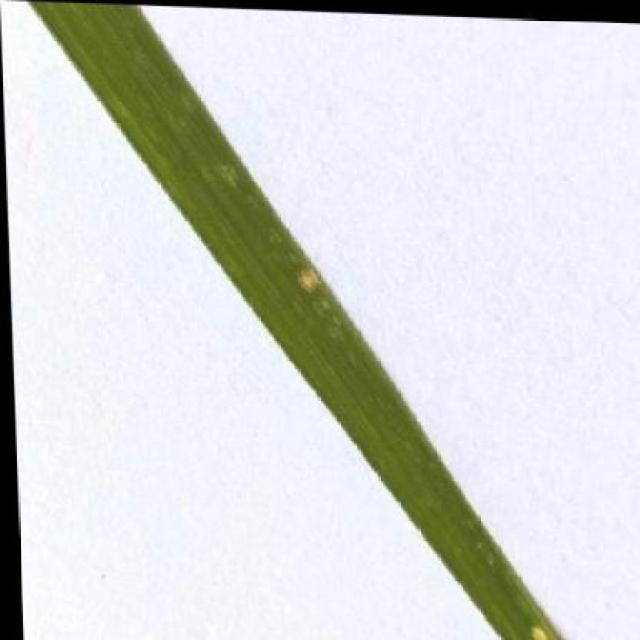Bacterial_Leaf_Blight: (288, 259, 323, 301), (527, 618, 555, 640)
